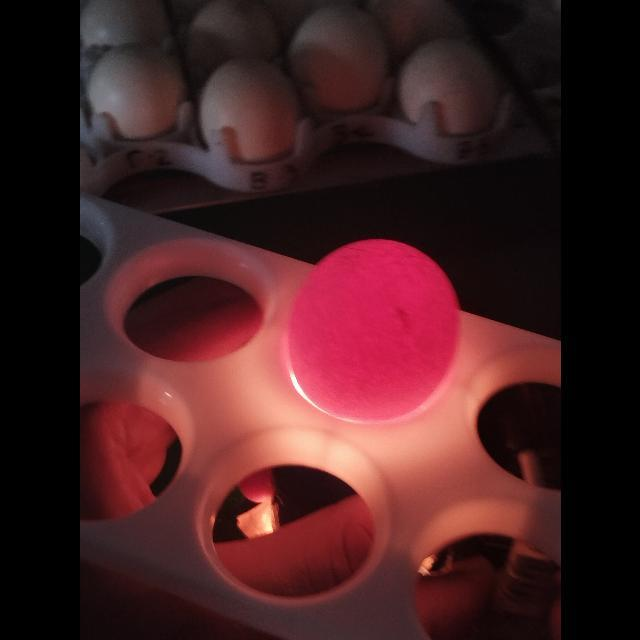Infertile: (284, 234, 466, 426)
